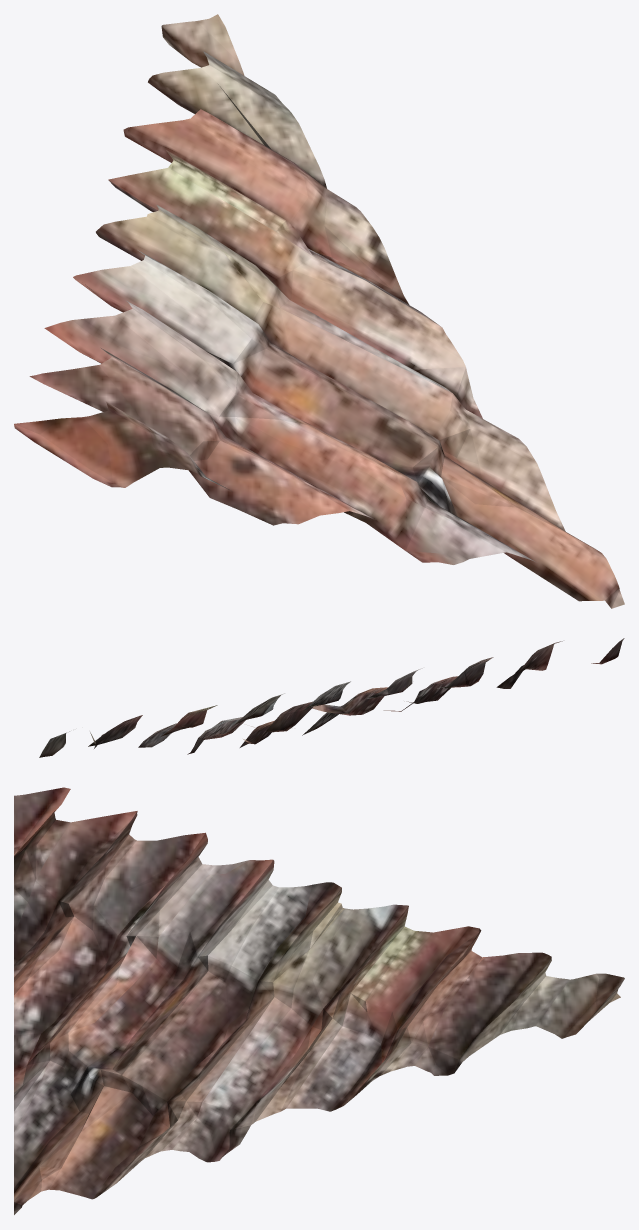
3 views of the same model, one above another, from view 1: azimuth 30°, elevation 25°; view 2: azimuth 150°, elevation 25°; view 3: azimuth 270°, elevation 25° (orthographic). The views are drawn at different scales.
Bounding box in the file's own units: 1.15 × 0.5587 × 1.41.
1 material, 1 textured.
